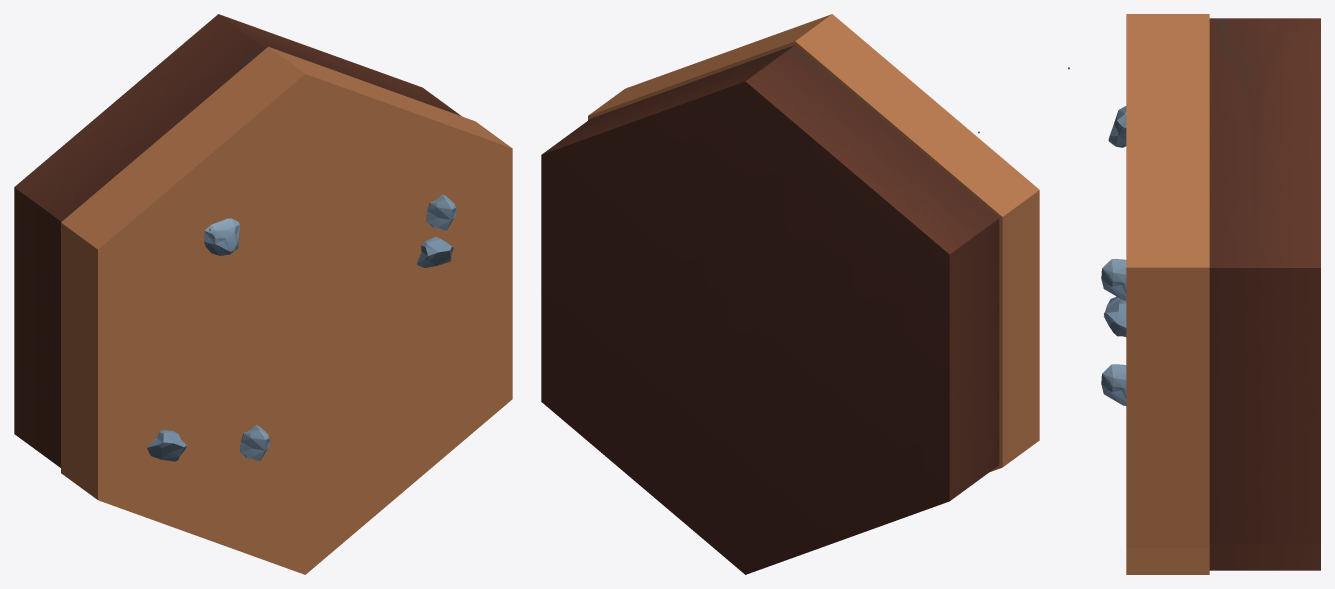
The model's file is DIRT.fbx.
The picture shows the model from 3 angles, left to right: view 1: azimuth 30°, elevation 25°; view 2: azimuth 150°, elevation 25°; view 3: azimuth 270°, elevation 25°; orthographic projection. The views are drawn at different scales.
Visible parts, largest first — view 1: DORF_S.001; view 2: DORF_S.001; view 3: DORF_S.001.
Part boxes in pixels (box(x1,y1,x2,y2)): DORF_S.001: box(14, 14, 512, 574); DORF_S.001: box(541, 14, 1039, 574); DORF_S.001: box(1068, 14, 1320, 574).
Size of the model in its own units: 81.2 by 199 by 172.
